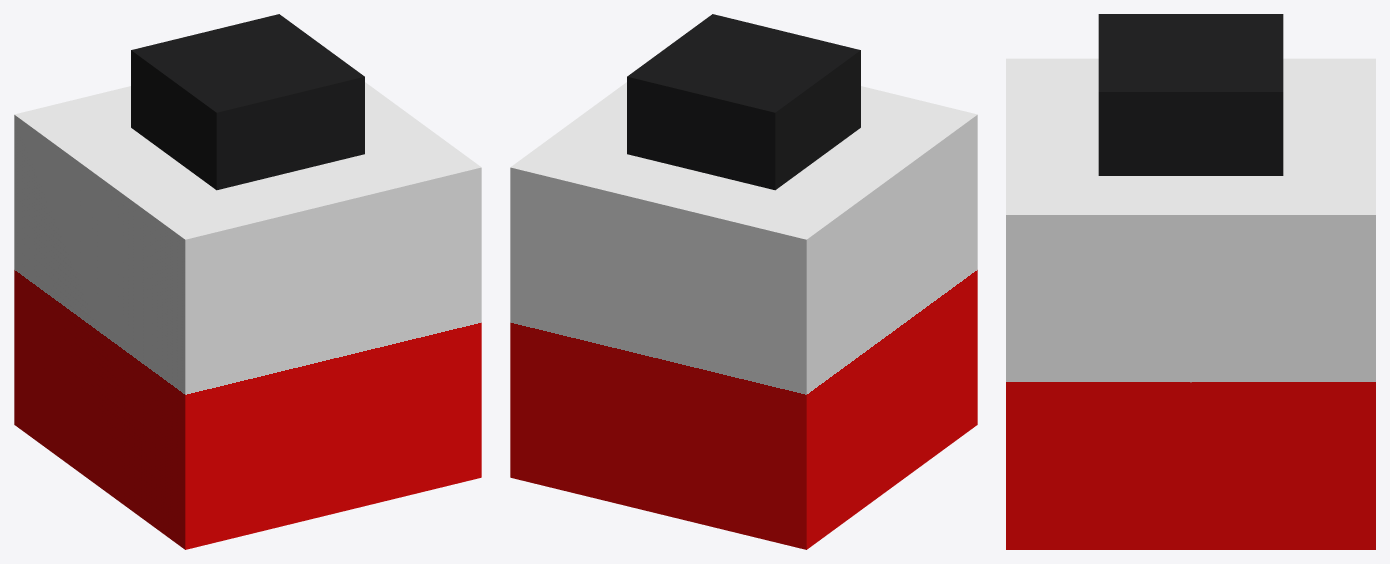
File: fishing_bobber.obj
3 renders of one model, left to right at view 1: azimuth 30°, elevation 25°; view 2: azimuth 150°, elevation 25°; view 3: azimuth 270°, elevation 25°, orthographic. The views are drawn at different scales.
Parts seen in each view (by area): view 1: cube; view 2: cube; view 3: cube.
Boxes of the visible parts, bbox=[...] form: cube: bbox=[14, 14, 481, 549]; cube: bbox=[510, 14, 977, 549]; cube: bbox=[1006, 14, 1375, 549].
Size of the model in its own units: 0.25 by 0.3125 by 0.25.
Materials: 1 (1 with a texture image).
